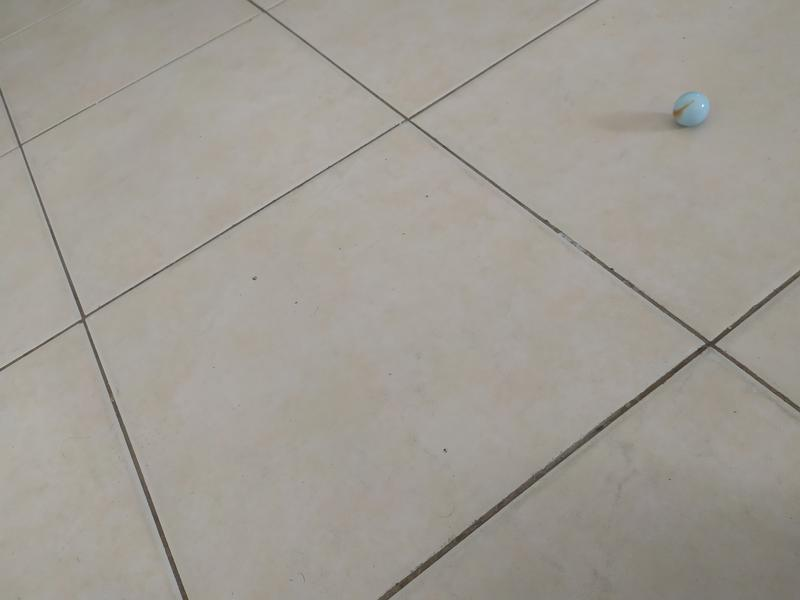Warning: (671, 89, 713, 129)
